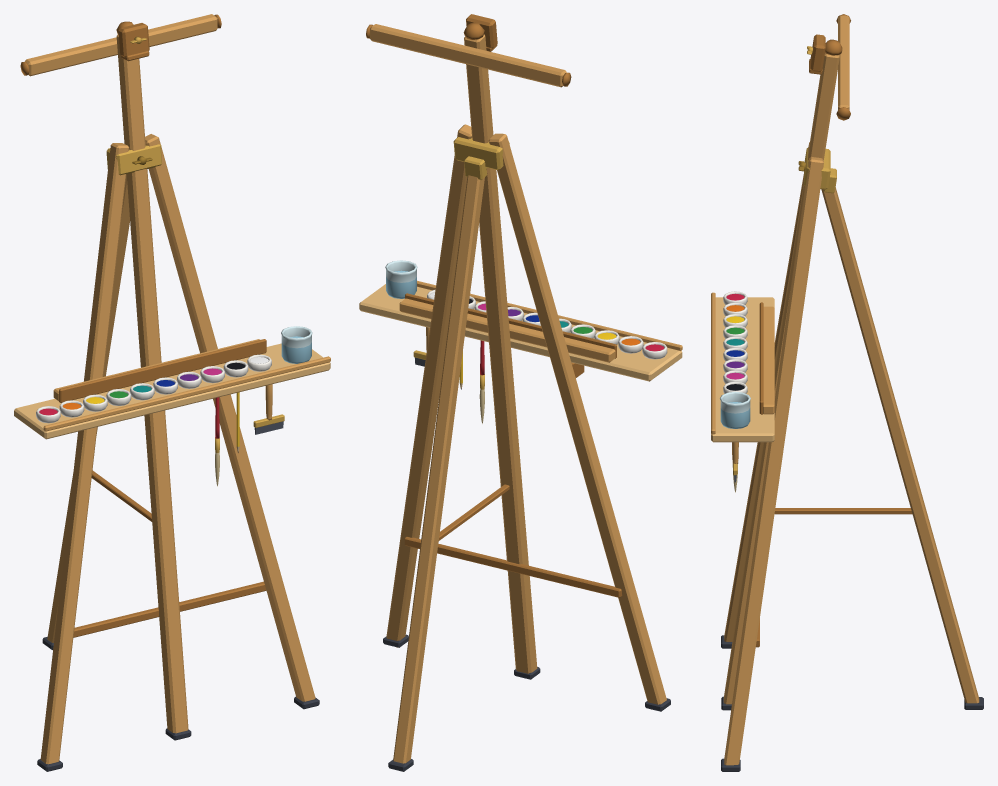
Rendered from easel_open.glb.
3 renders of one model, left to right at view 1: azimuth 30°, elevation 25°; view 2: azimuth 150°, elevation 25°; view 3: azimuth 270°, elevation 25°, orthographic. The views are drawn at different scales.
Visible parts, largest first — view 1: EaselBody, HookedTools; view 2: EaselBody, HookedTools; view 3: EaselBody.
Boxes of the visible parts, x1,y1,x2,y2 form: EaselBody: [14, 14, 330, 771]; HookedTools: [215, 384, 284, 486]; EaselBody: [359, 14, 682, 771]; HookedTools: [413, 327, 484, 423]; EaselBody: [711, 14, 983, 771].
Size of the model in its own units: 0.83 by 1.88 by 0.695.
1 material, 1 textured.
